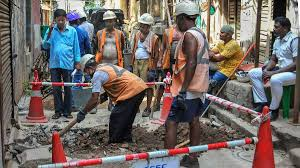arm: (174, 28, 201, 99), (73, 71, 104, 126), (268, 34, 297, 68), (208, 40, 238, 61), (72, 26, 84, 71), (39, 21, 54, 50), (93, 28, 105, 63)
face: (175, 12, 195, 29), (271, 20, 286, 36), (54, 13, 68, 27), (218, 28, 230, 40), (138, 22, 150, 33), (103, 18, 115, 27)
footwear: (50, 109, 63, 120), (268, 106, 278, 118)
glove: (261, 57, 275, 71), (74, 108, 86, 123), (74, 60, 82, 71)
helmet: (172, 0, 203, 17), (67, 5, 86, 20), (218, 21, 235, 37), (136, 11, 155, 25), (100, 8, 117, 20)
human: (159, 0, 214, 152), (76, 55, 148, 145), (246, 14, 298, 117), (42, 5, 80, 119), (211, 19, 243, 93), (129, 9, 160, 74), (94, 7, 126, 62)
leg: (174, 92, 205, 161), (266, 69, 292, 119), (108, 101, 134, 143), (245, 65, 269, 107), (49, 67, 64, 120), (61, 82, 74, 118)
nogoggle: (272, 24, 283, 30)
nohelmet: (271, 14, 292, 34), (218, 21, 235, 37), (52, 7, 68, 18)
novest: (47, 24, 79, 69), (269, 31, 296, 68), (216, 38, 243, 72), (75, 20, 96, 58)
vest: (172, 26, 210, 96), (97, 63, 144, 103), (47, 24, 78, 69), (250, 117, 275, 167), (96, 27, 124, 59), (131, 30, 156, 64), (75, 20, 96, 56)
